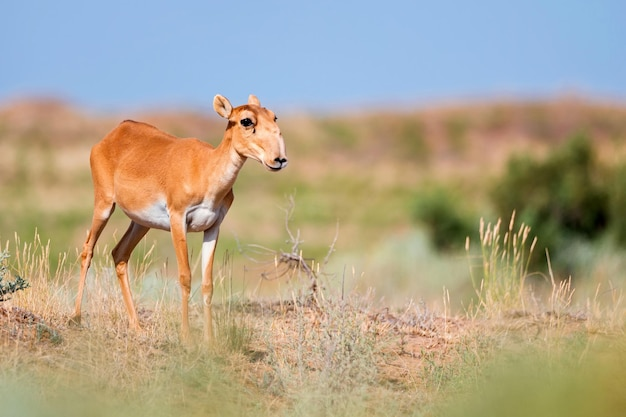saiga: (68, 95, 297, 350)
